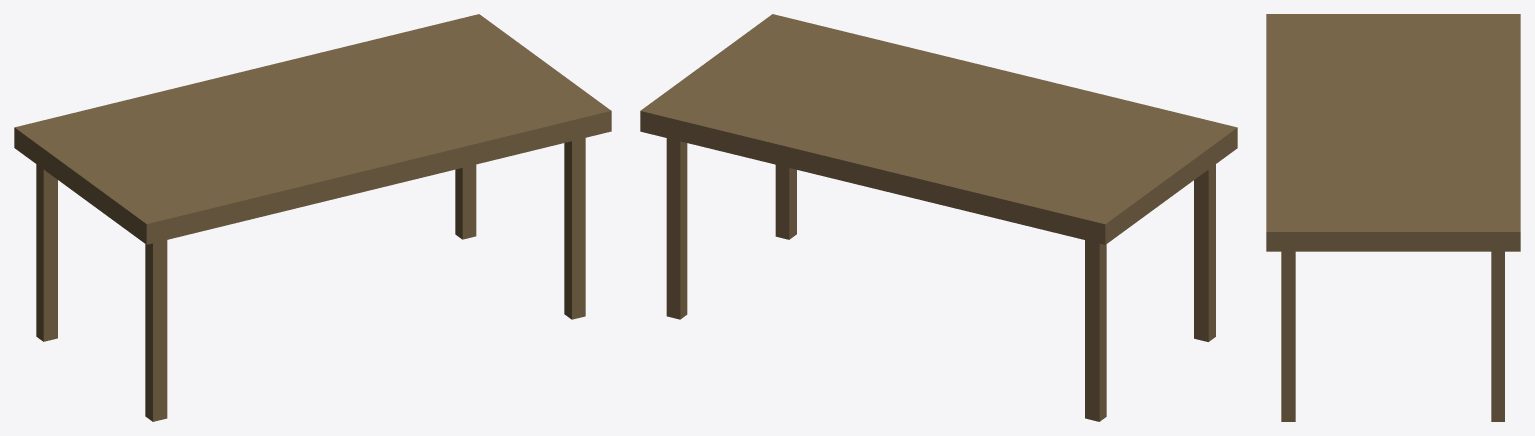
Rendered from Table.fbx.
3 views of the same model, side by side, from view 1: azimuth 30°, elevation 25°; view 2: azimuth 150°, elevation 25°; view 3: azimuth 270°, elevation 25° (orthographic). The views are drawn at different scales.
Visible parts, largest first — view 1: Table01; view 2: Table01; view 3: Table01.
Boxes of the visible parts, left/top/right/bottom form: Table01: left=14, top=14, right=611, bottom=421; Table01: left=640, top=14, right=1237, bottom=421; Table01: left=1266, top=14, right=1520, bottom=421.
Bounding box in the file's own units: 0.1144 × 0.0486 × 0.0564.
